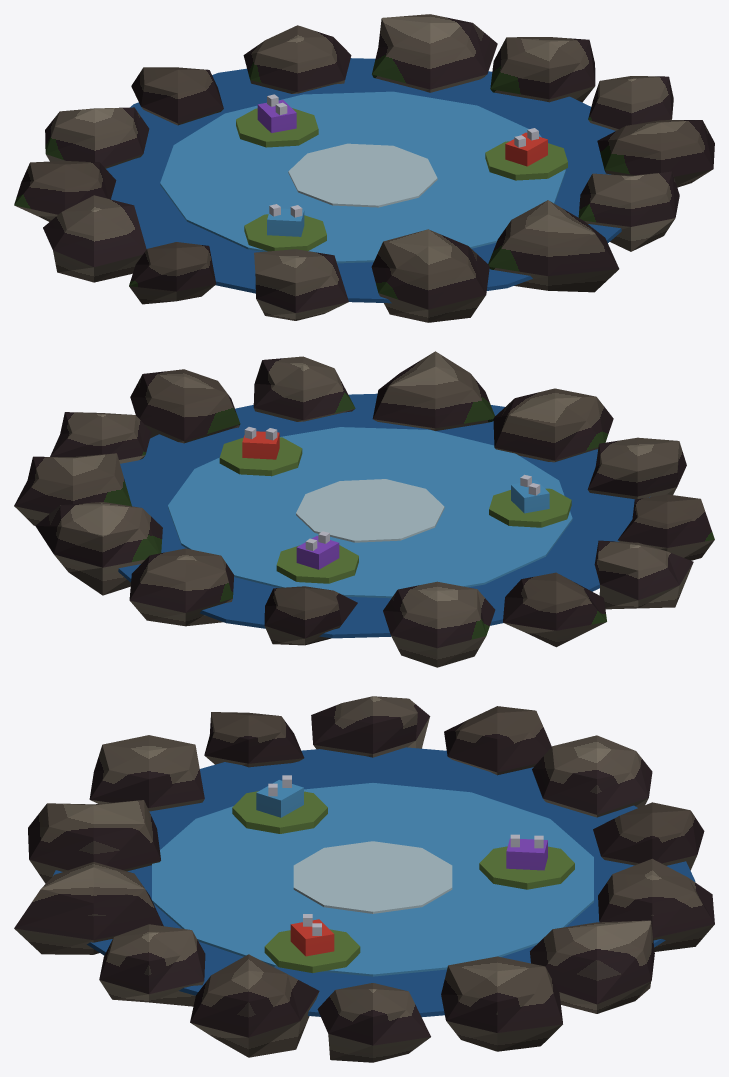
The model's file is frog_pond.glb.
3 renders of one model, top to bottom at view 1: azimuth 30°, elevation 25°; view 2: azimuth 150°, elevation 25°; view 3: azimuth 270°, elevation 25°, orthographic. The views are drawn at different scales.
Parts seen in each view (by area): view 1: frog_pond; view 2: frog_pond; view 3: frog_pond.
Boxes of the visible parts, x1=… form: frog_pond: x1=14, y1=14, x2=714, y2=322; frog_pond: x1=14, y1=351, x2=714, y2=667; frog_pond: x1=14, y1=696, x2=714, y2=1062.
Bounding box in the file's own units: 3.35 × 0.3855 × 2.94.
3 materials, 1 textured.
